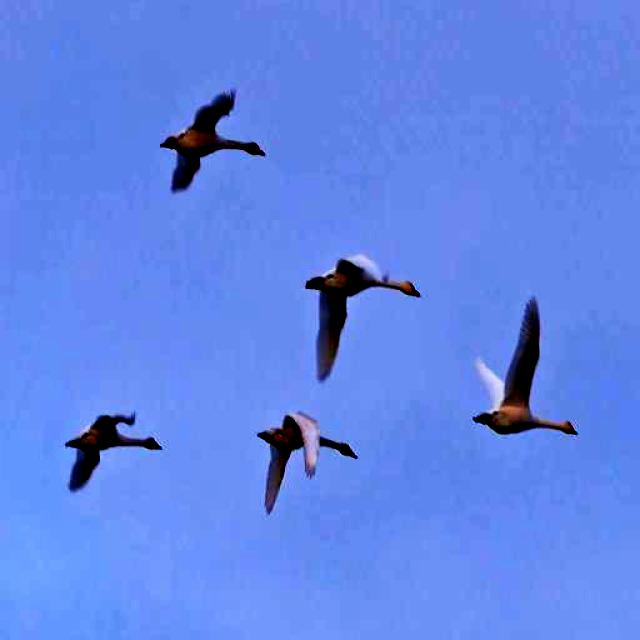airplane: (469, 288, 584, 448), (300, 246, 420, 386), (158, 75, 272, 206), (246, 406, 365, 521), (41, 401, 165, 502)
